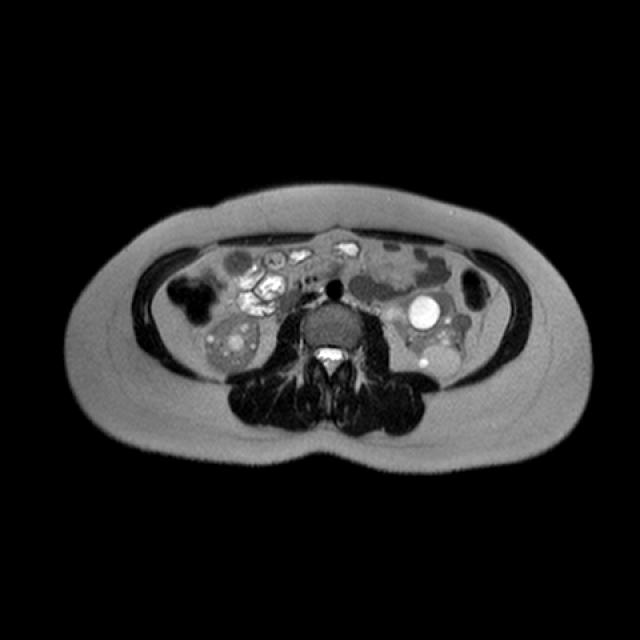sag: (204, 313, 261, 375)
sol: (383, 287, 473, 378)
